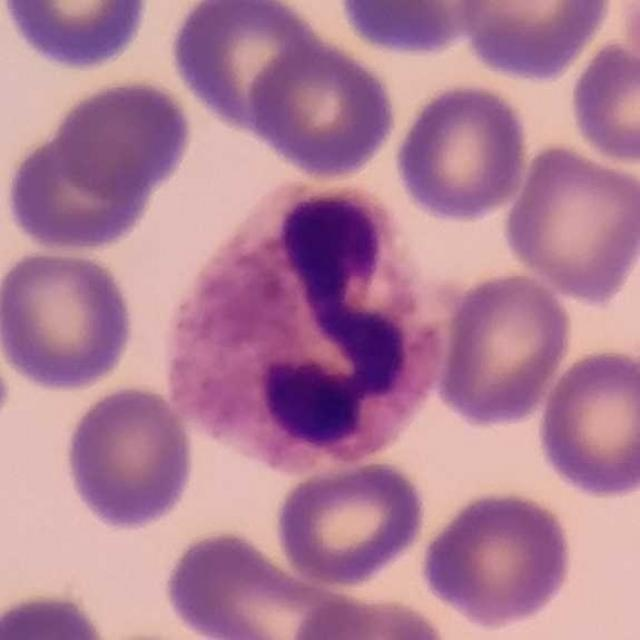Neutrophil: (157, 174, 440, 483)
RBC: (416, 485, 578, 631), (162, 525, 368, 639), (500, 139, 640, 305), (432, 268, 576, 429), (245, 36, 399, 182), (166, 0, 327, 136), (270, 455, 430, 590), (1, 121, 160, 254), (60, 382, 198, 533), (391, 79, 532, 224), (0, 246, 138, 393), (52, 76, 196, 199), (533, 344, 640, 502), (452, 0, 616, 82), (0, 0, 153, 73), (565, 36, 640, 167), (333, 0, 491, 59), (287, 589, 453, 640), (0, 589, 115, 640), (614, 1, 640, 82)
